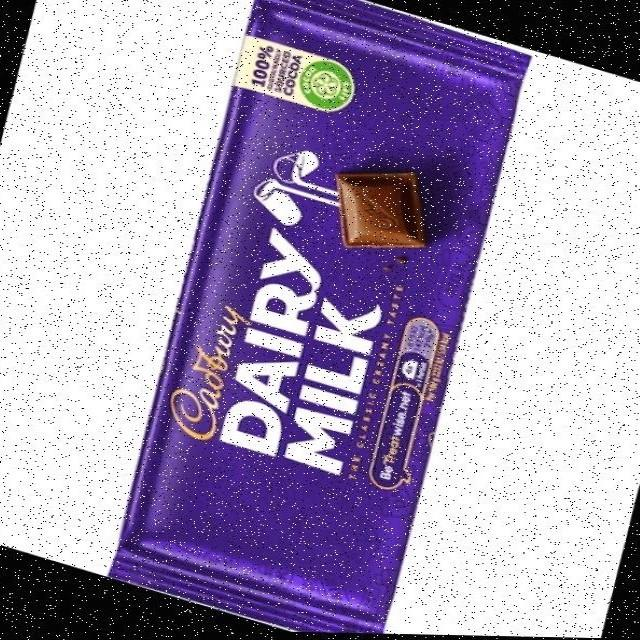cadbury_chocolate: (170, 12, 438, 613)
